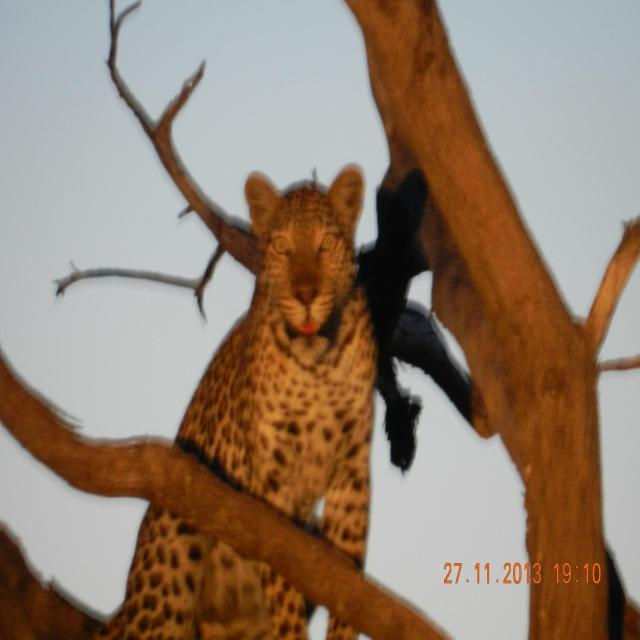Leopard: (45, 145, 419, 640)
